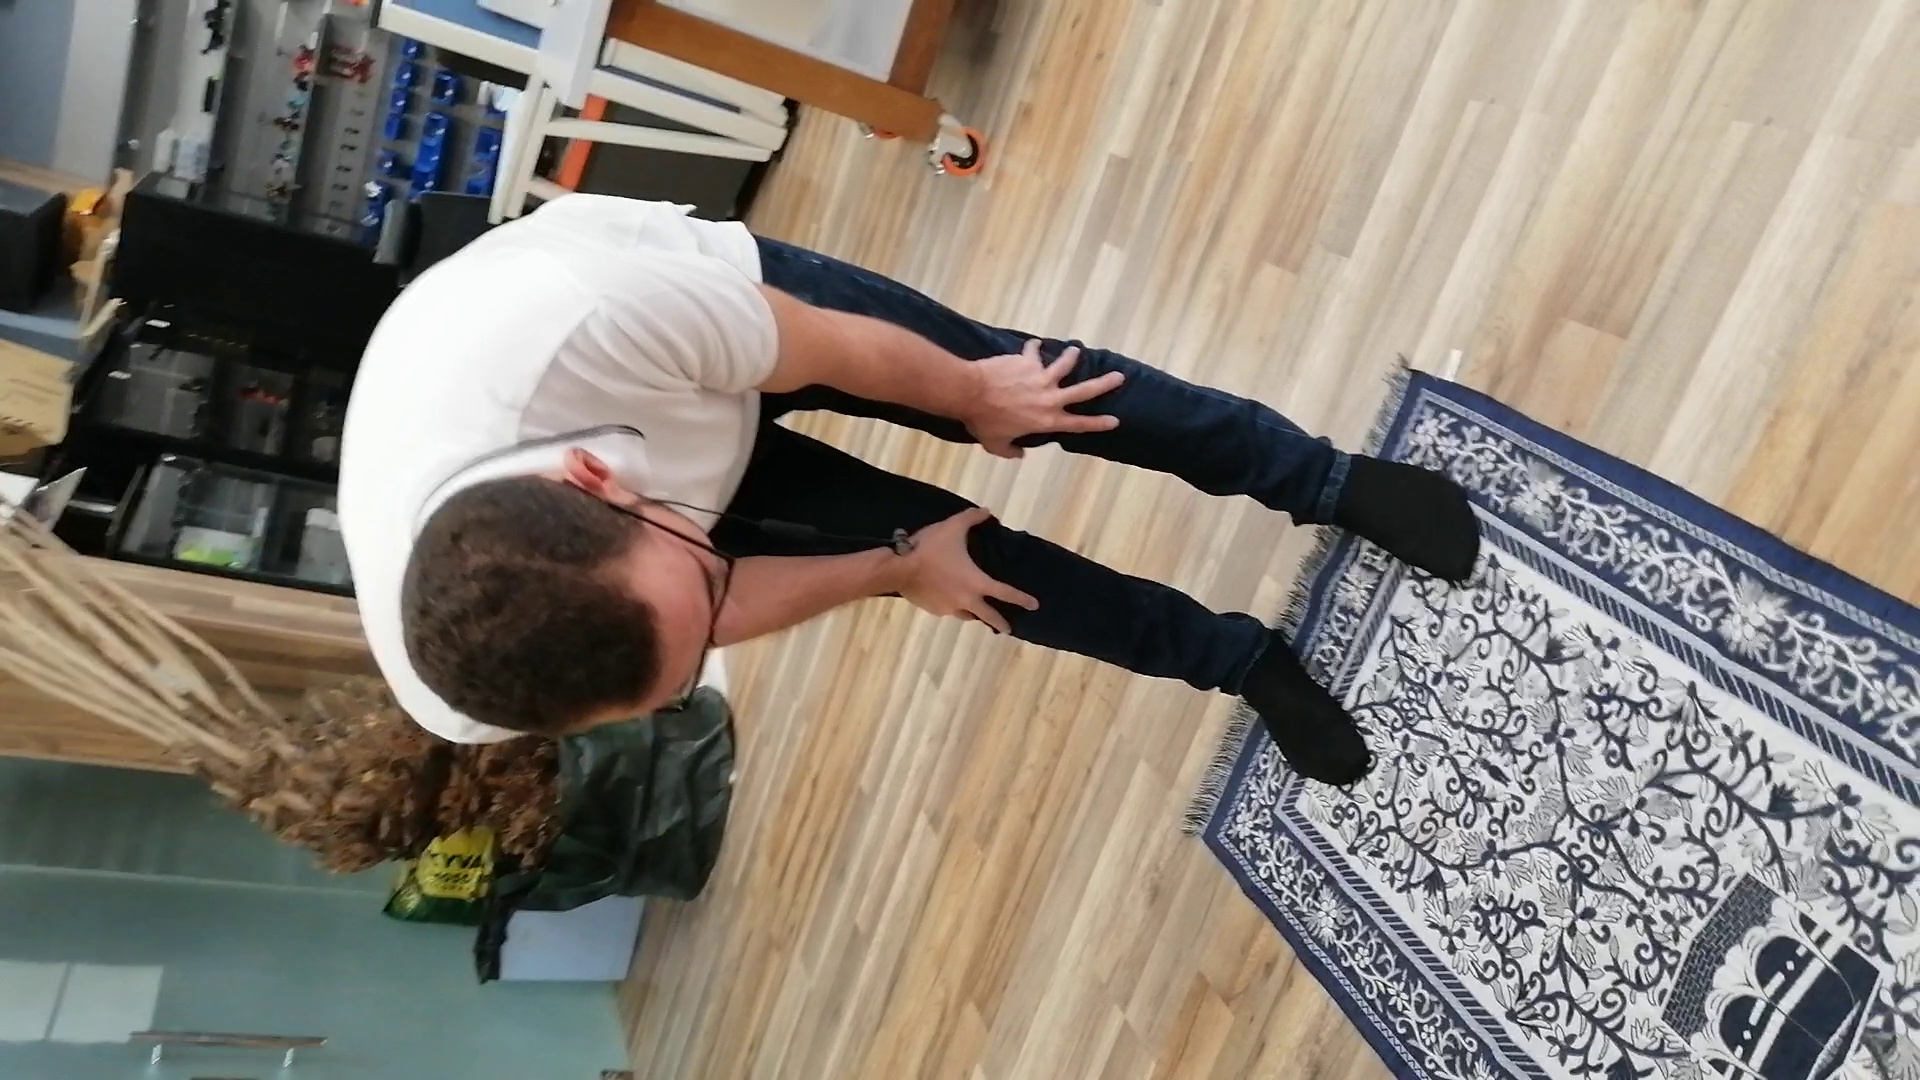ruku: (190, 166, 1768, 967)
